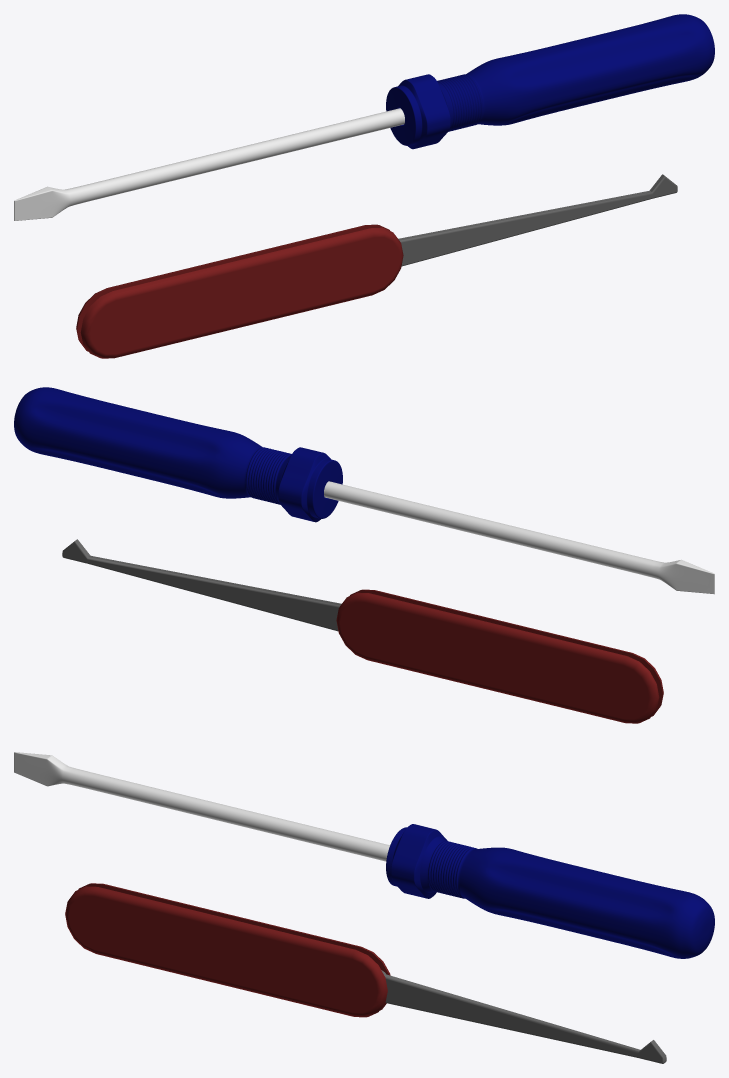
File: Lockpick.fbx
3 views of the same model, one above another, from view 1: azimuth 30°, elevation 25°; view 2: azimuth 150°, elevation 25°; view 3: azimuth 330°, elevation 25° (orthographic).
Visible parts, largest first — view 1: Plastic_Tool-material, Cylinder.001, Cylinder, Steel_Tool-material; view 2: Plastic_Tool-material, Cylinder.001, Cylinder, Steel_Tool-material; view 3: Plastic_Tool-material, Cylinder.001, Cylinder, Steel_Tool-material.
Boxes of the visible parts, bbox=[...] form: Plastic_Tool-material: bbox=[76, 224, 403, 358]; Cylinder.001: bbox=[386, 14, 714, 149]; Cylinder: bbox=[14, 108, 404, 220]; Steel_Tool-material: bbox=[398, 174, 677, 266]; Plastic_Tool-material: bbox=[336, 589, 663, 723]; Cylinder.001: bbox=[14, 387, 342, 522]; Cylinder: bbox=[324, 481, 714, 594]; Steel_Tool-material: bbox=[62, 539, 341, 631]; Plastic_Tool-material: bbox=[65, 883, 390, 1017]; Cylinder.001: bbox=[386, 824, 714, 958]; Cylinder: bbox=[14, 752, 389, 861]; Steel_Tool-material: bbox=[381, 970, 666, 1063].
Size of the model in its own units: 10.87 by 2.95 by 0.9874.
